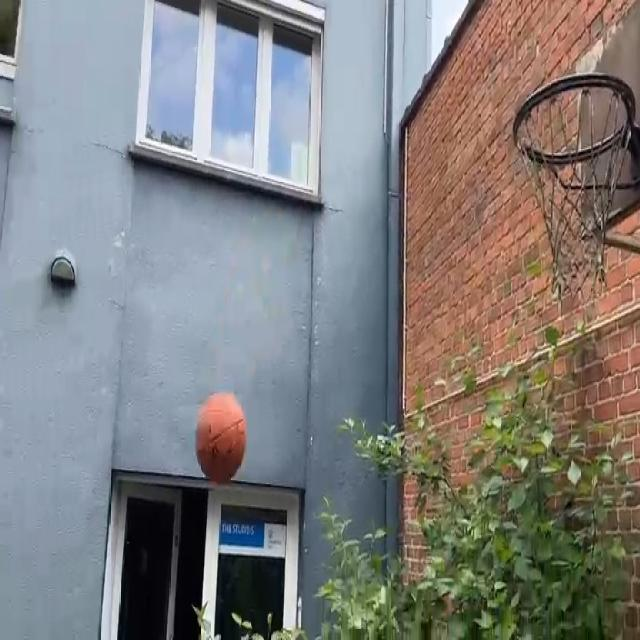Basketball: (196, 392, 248, 483)
